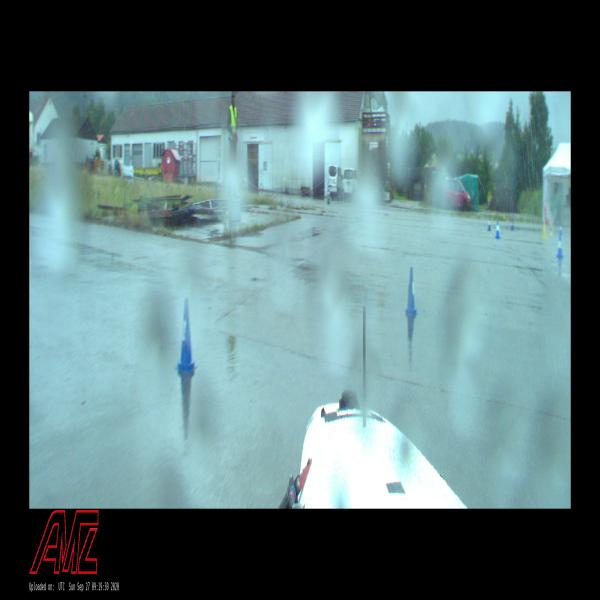blue_cone: (175, 299, 198, 372), (405, 268, 417, 314), (557, 234, 563, 258), (495, 221, 500, 239), (487, 218, 491, 231), (560, 223, 562, 236)
yellow_cone: (542, 221, 546, 239), (550, 223, 552, 235)
